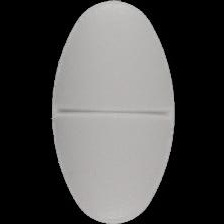54868-0028: (0, 0, 224, 224)
